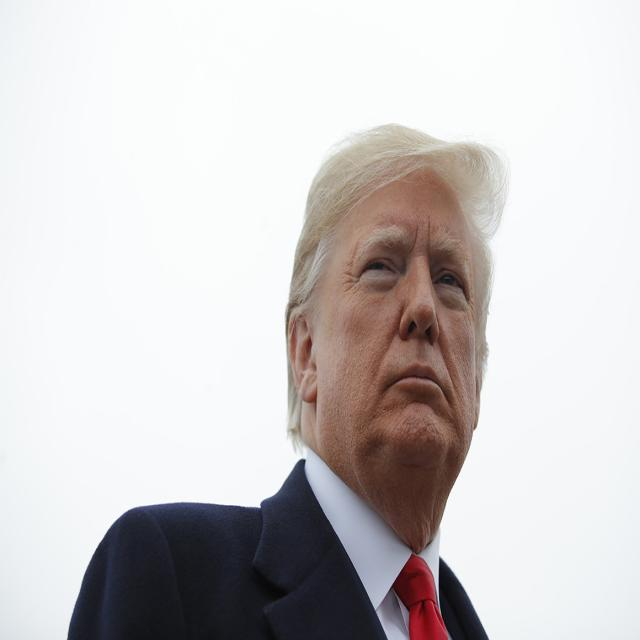human: (64, 122, 512, 640)
